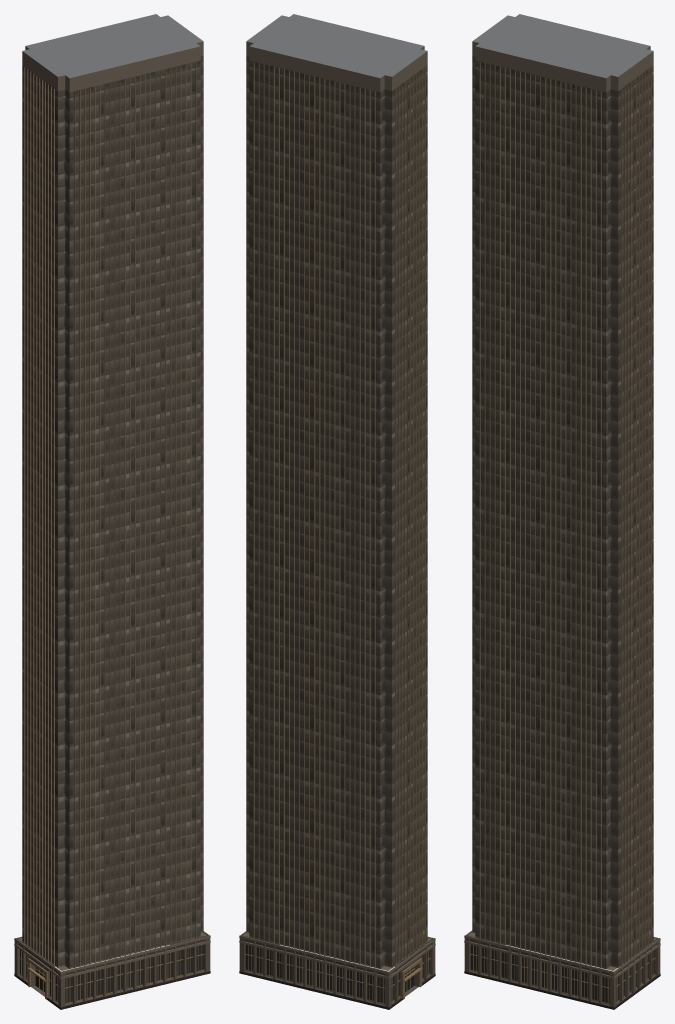
Rendered from trump_world_tower.glb.
3 views of the same model, side by side, from view 1: azimuth 30°, elevation 25°; view 2: azimuth 150°, elevation 25°; view 3: azimuth 330°, elevation 25° (orthographic).
Parts seen in each view (by area): view 1: trump_world_tower; view 2: trump_world_tower; view 3: trump_world_tower.
Boxes of the visible parts, <box> form: trump_world_tower: <box>14,14,210,1009</box>; trump_world_tower: <box>239,14,435,1009</box>; trump_world_tower: <box>464,14,660,1009</box>.
Size of the model in its own units: 44.71 by 262 by 23.83.
Materials: 2 (2 with a texture image).
